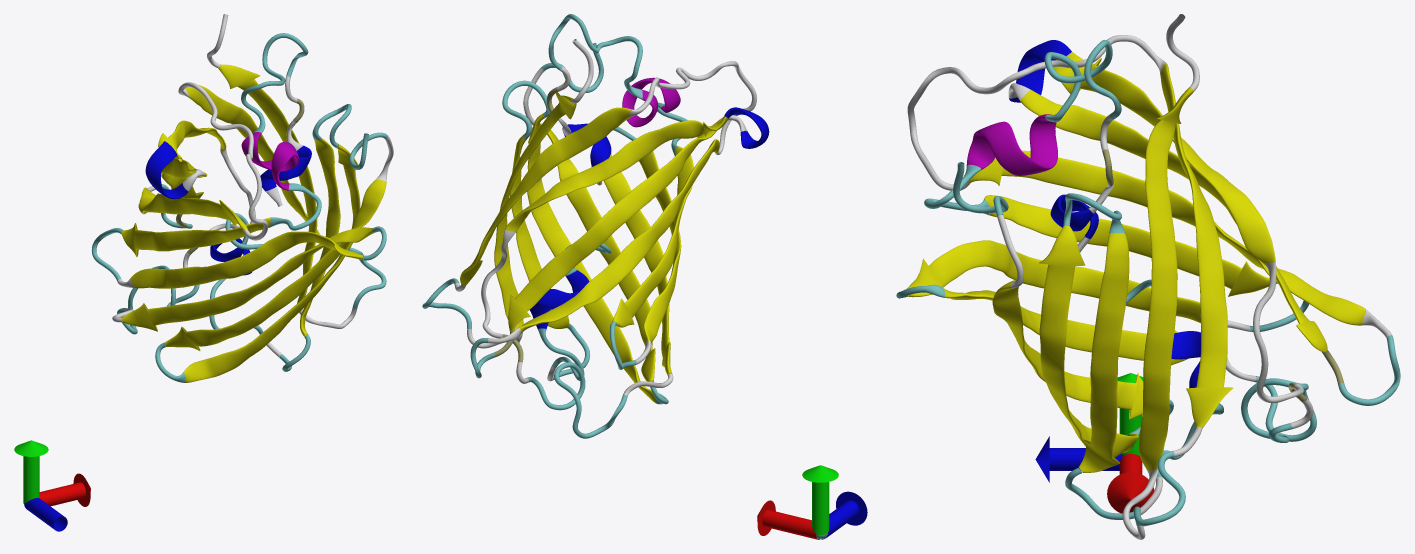
Rendered from proteina_ligera.glb.
The picture shows the model from 3 angles, left to right: view 1: azimuth 30°, elevation 25°; view 2: azimuth 150°, elevation 25°; view 3: azimuth 270°, elevation 25°; orthographic projection. The views are drawn at different scales.
Visible parts, largest first — view 1: Object_18, Object_17, Object_16, Object_20, Object_19, Object_7, Object_27, Object_6, Object_3, Object_10, Object_25, Object_28 (+3 smaller); view 2: Object_16, Object_19, Object_17, Object_18, Object_20, Object_7, Object_27, Object_6, Object_3, Object_28, Object_25, Object_4 (+3 smaller); view 3: Object_19, Object_16, Object_18, Object_17, Object_27, Object_20, Object_7, Object_6, Object_10, Object_3, Object_28, Object_4 (+4 smaller).
Boxes of the visible parts, box(x1,y1,x2,y2) form: Object_18: box(121, 187, 363, 288); Object_17: box(122, 120, 374, 331); Object_16: box(161, 138, 360, 382); Object_20: box(164, 64, 386, 350); Object_19: box(139, 85, 318, 302); Object_7: box(155, 33, 387, 382); Object_27: box(178, 14, 393, 357); Object_6: box(91, 80, 386, 334); Object_3: box(145, 141, 311, 275); Object_10: box(241, 132, 299, 190); Object_25: box(14, 440, 48, 503); Object_28: box(112, 76, 302, 322); Object_16: box(510, 113, 655, 403); Object_19: box(460, 107, 719, 331); Object_17: box(505, 116, 728, 375); Object_18: box(508, 146, 693, 343); Object_20: box(494, 92, 655, 381); Object_7: box(422, 14, 668, 410); Object_27: box(454, 39, 756, 381); Object_6: box(538, 36, 687, 438); Object_3: box(530, 107, 769, 329); Object_28: box(488, 67, 746, 395); Object_25: box(802, 465, 838, 534); Object_4: box(757, 500, 819, 539); Object_19: box(968, 63, 1365, 470); Object_16: box(1039, 154, 1294, 472); Object_18: box(907, 195, 1365, 351); Object_17: box(943, 52, 1275, 365); Object_27: box(907, 14, 1308, 539); Object_20: box(992, 87, 1193, 470); Object_7: box(953, 40, 1400, 526); Object_6: box(896, 52, 1316, 477); Object_10: box(966, 114, 1057, 175); Object_3: box(1009, 40, 1200, 388); Object_28: box(1008, 83, 1392, 428); Object_4: box(1107, 454, 1154, 513).
Size of the model in its own units: 1.58 by 1.76 by 1.32.
